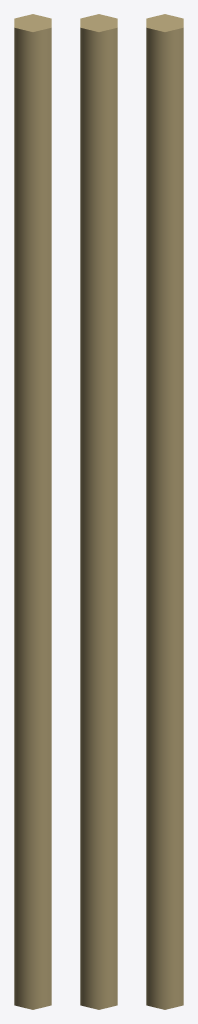
File: tree_palm_01.glb
3 renders of one model, left to right at view 1: azimuth 30°, elevation 25°; view 2: azimuth 150°, elevation 25°; view 3: azimuth 330°, elevation 25°, orthographic.
Parts seen in each view (by area): view 1: tree_palm; view 2: tree_palm; view 3: tree_palm.
Boxes of the visible parts, x1,y1,x2,y2 form: tree_palm: (14, 14, 51, 1009); tree_palm: (80, 14, 117, 1009); tree_palm: (146, 14, 183, 1009).
Size of the model in its own units: 0.4 by 10 by 0.3464.
